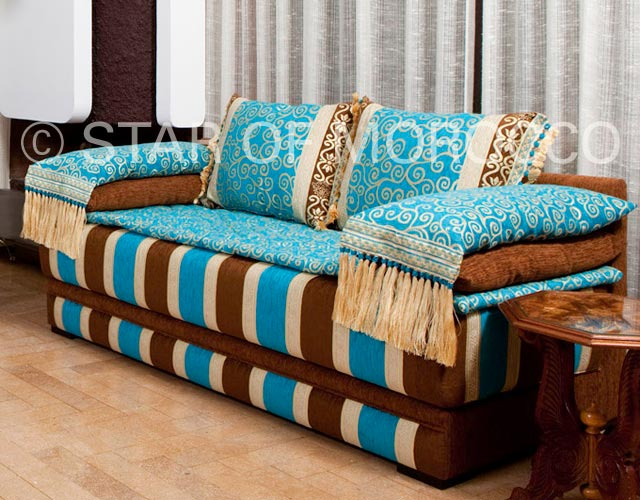chairs: (20, 89, 630, 485)
